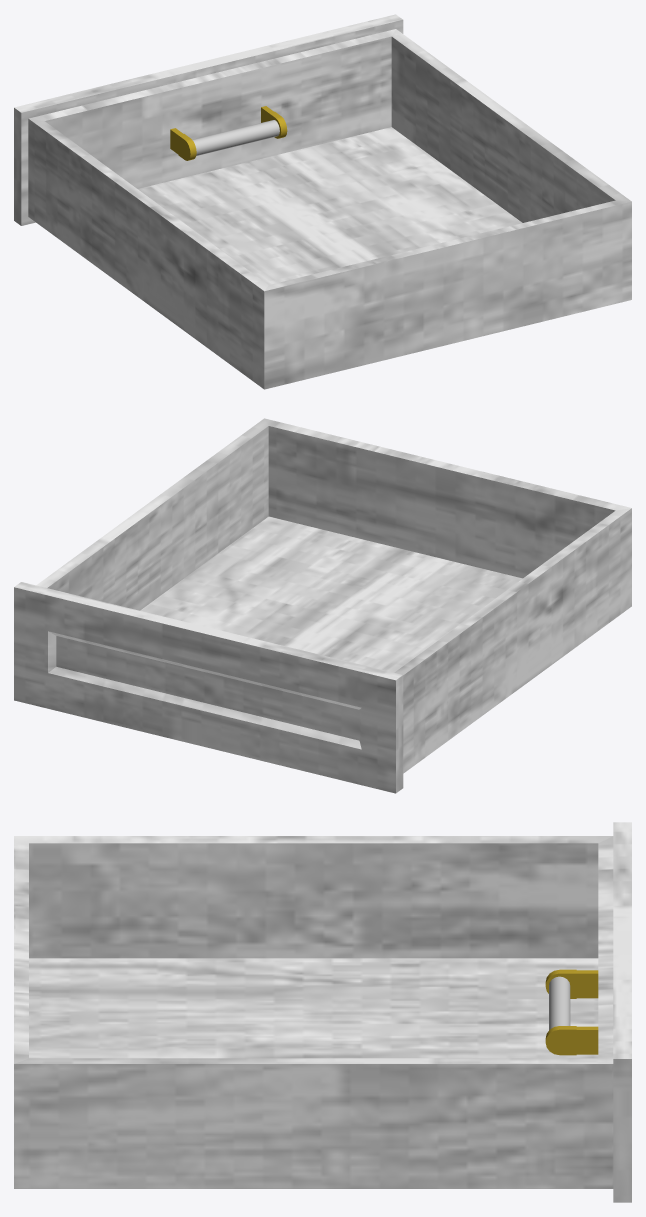
The model's file is Drawer_d8cc0a82.obj.
3 renders of one model, top to bottom at view 1: azimuth 30°, elevation 25°; view 2: azimuth 150°, elevation 25°; view 3: azimuth 270°, elevation 25°, orthographic. The views are drawn at different scales.
Parts seen in each view (by area): view 1: Mesh_01_004de5f5, handle_2_76mm_01_73b69944; view 2: Mesh_01_004de5f5; view 3: Mesh_01_004de5f5, handle_2_76mm_01_73b69944.
Part boxes in pixels (<box>): Mesh_01_004de5f5: <box>14,14,631,389</box>; handle_2_76mm_01_73b69944: <box>170,106,287,160</box>; Mesh_01_004de5f5: <box>14,418,631,793</box>; Mesh_01_004de5f5: <box>14,822,631,1202</box>; handle_2_76mm_01_73b69944: <box>545,969,598,1055</box>.
Size of the model in its own units: 0.3 by 0.085 by 0.331.
